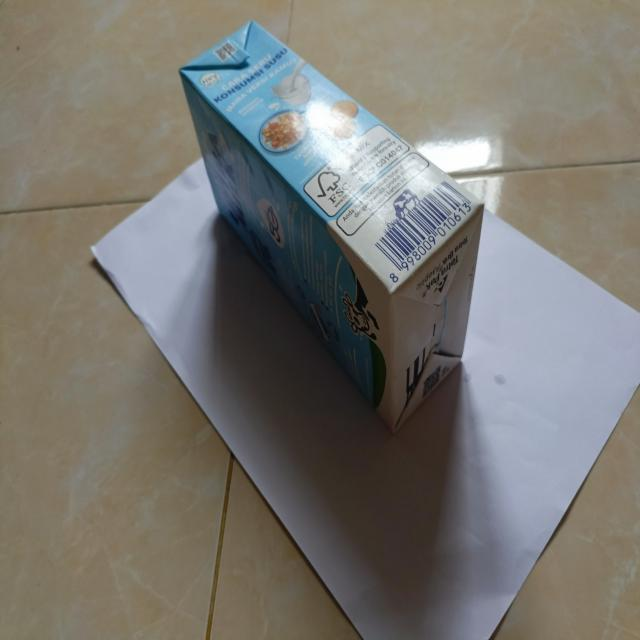indomie-mie-kocok-bandung: (179, 18, 485, 440)
